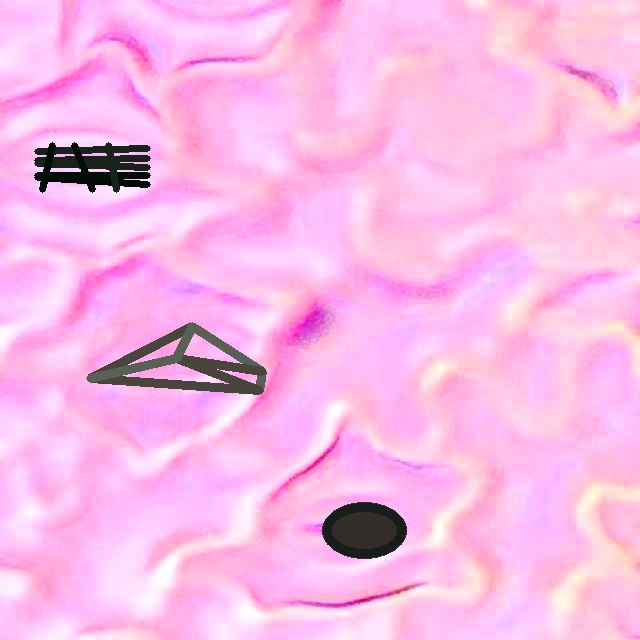close: (87, 323, 265, 393)
open: (34, 142, 150, 192), (322, 502, 407, 559)
